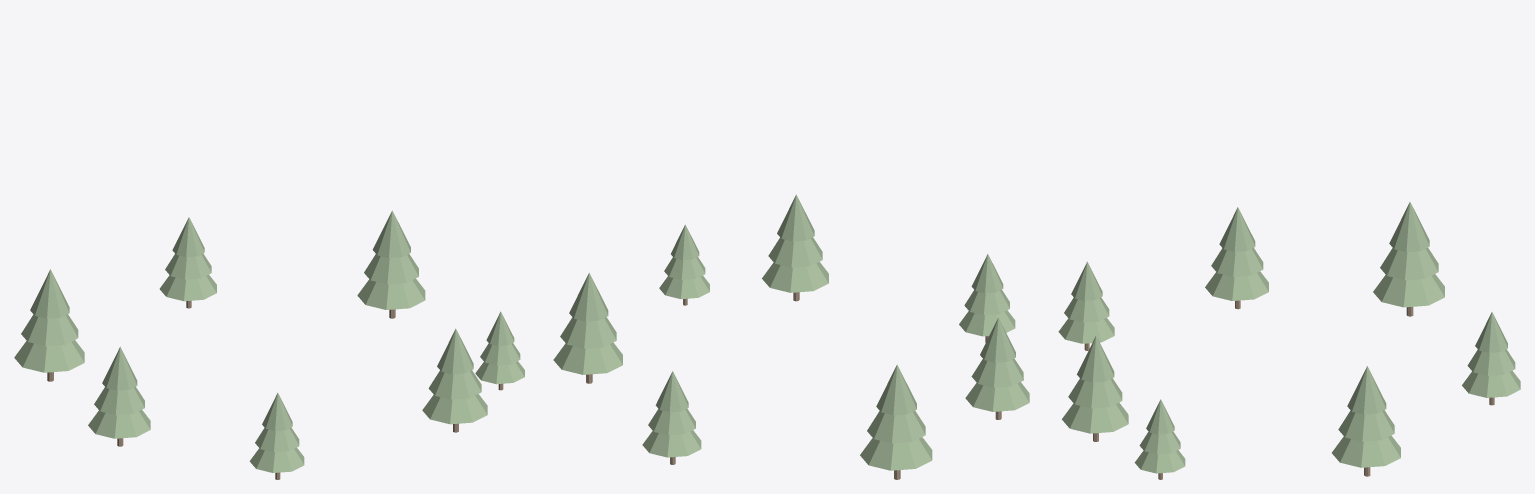
File: ych.glb
The picture shows the model from 3 angles, left to right: view 1: azimuth 30°, elevation 25°; view 2: azimuth 150°, elevation 25°; view 3: azimuth 270°, elevation 25°; orthographic projection. The views are drawn at different scales.
Parts seen in each view (by area): view 1: trees_mesh; view 2: trees_mesh; view 3: trees_mesh.
Part boxes in pixels (x1,y1,x2,y2): trees_mesh: (14, 210, 524, 479); trees_mesh: (553, 194, 1029, 479); trees_mesh: (1058, 202, 1520, 479).
Bounding box in the file's own units: 0.5387 × 0.4864 × 0.5368.
